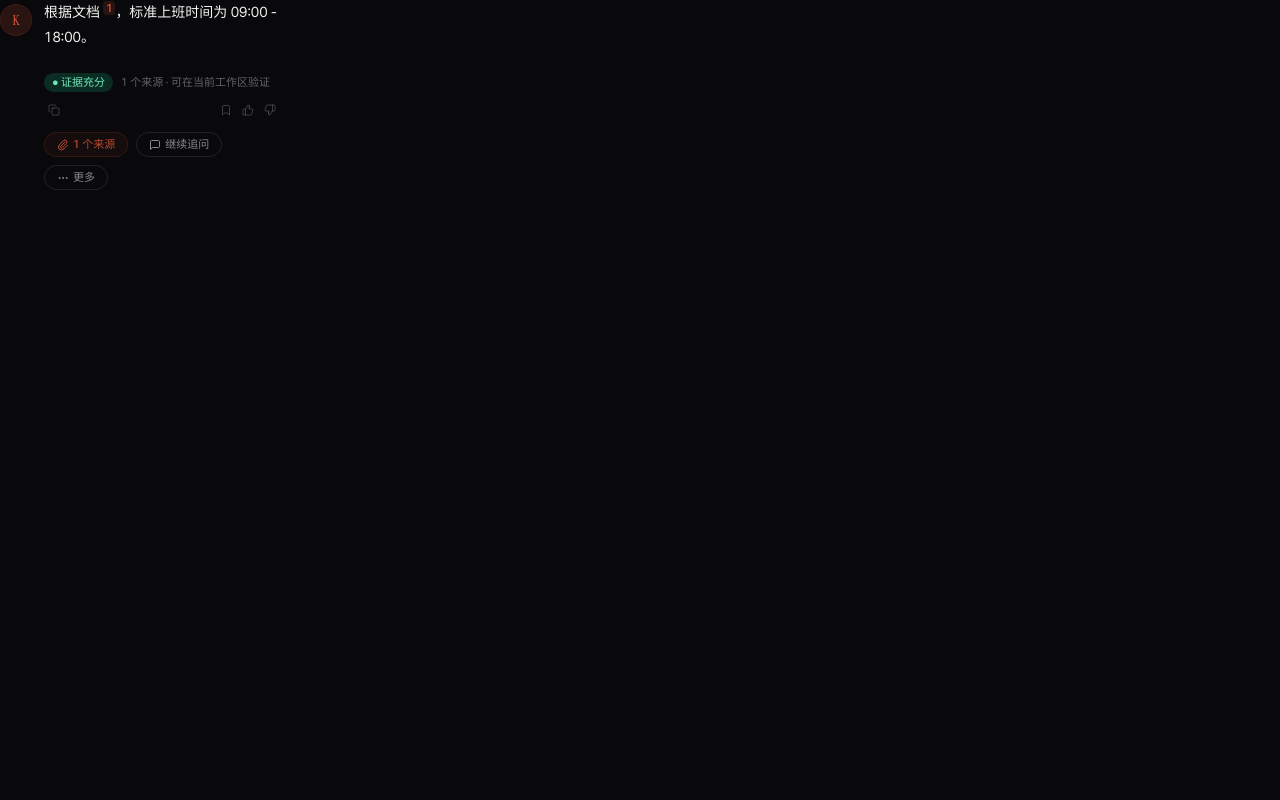
Test: MessageBubble › opens export as a separate dialog from the menu and remains usable in a narrow container
Click the button with aria-label "更多操作" at (76, 178), box [44,165,108,190]
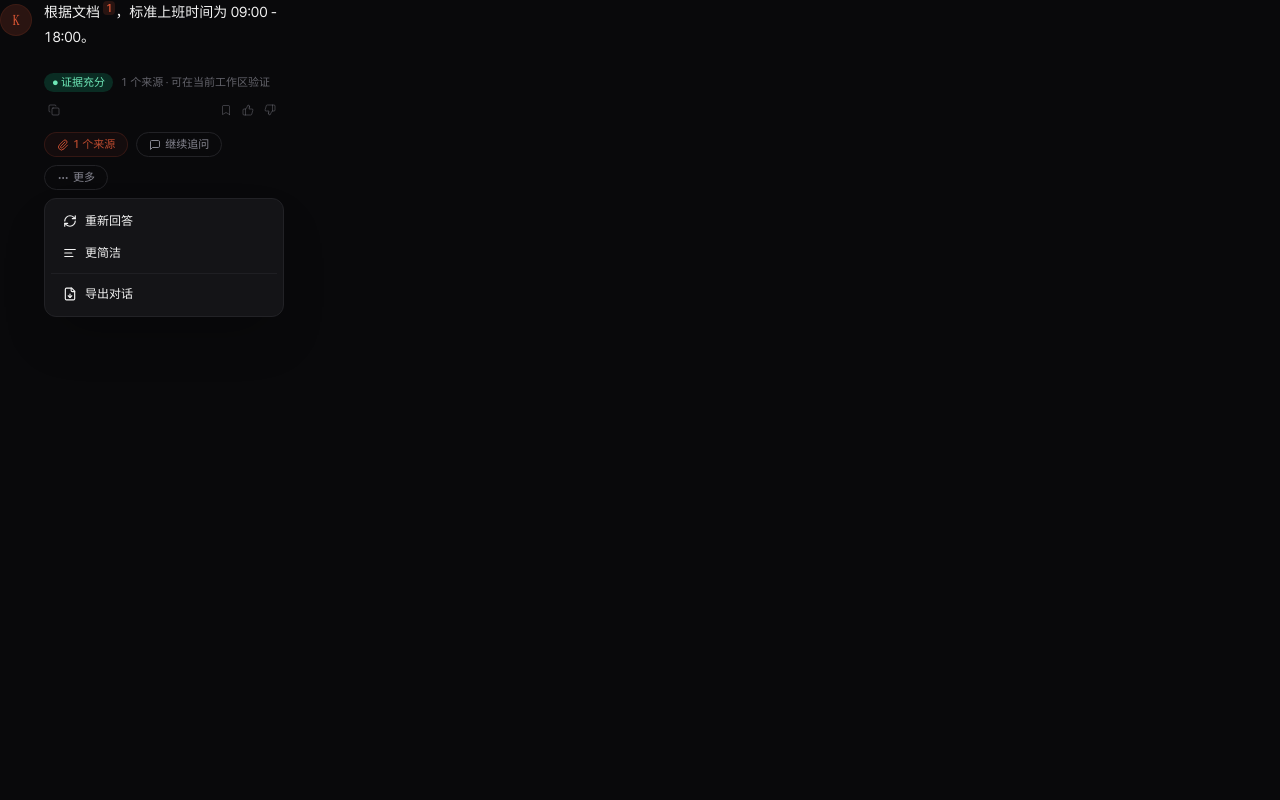
Click the menu item "导出对话" at (98, 294), box [63,286,133,301]
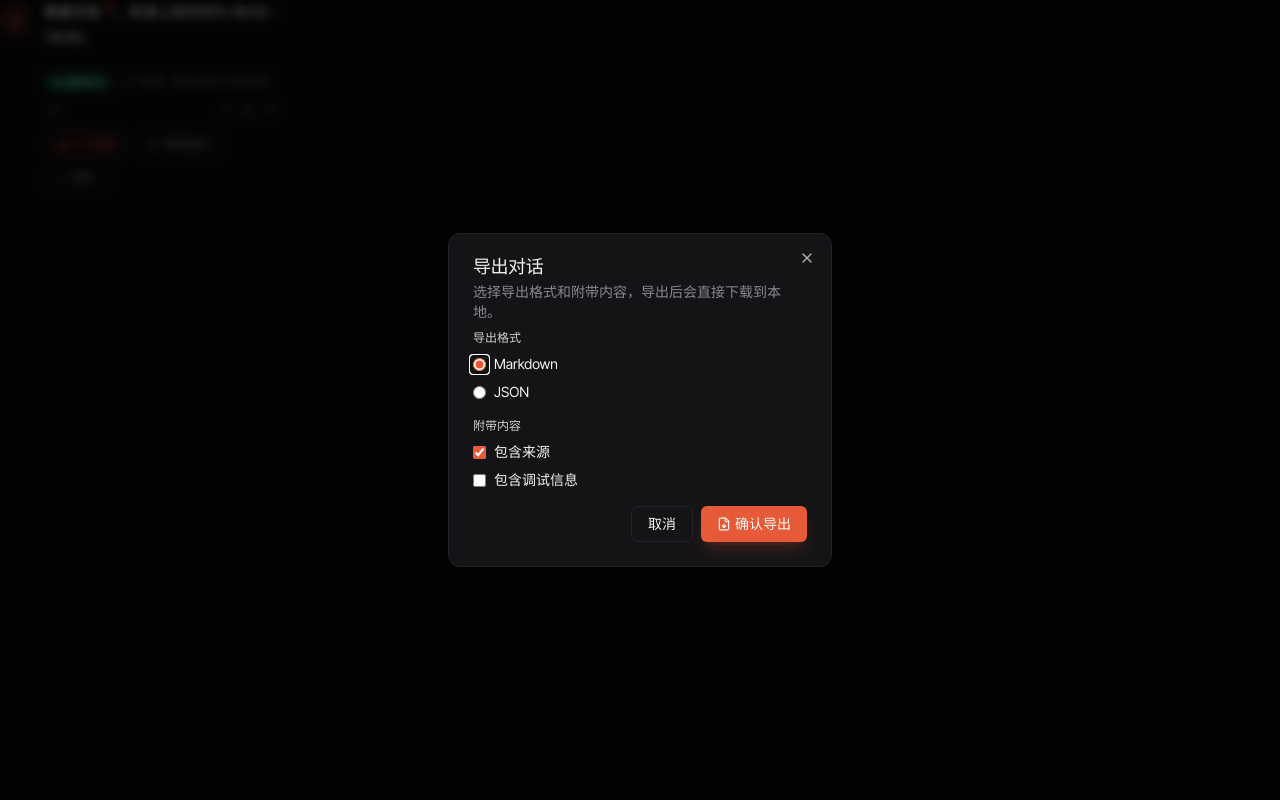
Check: the menu item "重新回答" is gone
Check: the dialog "导出对话" is shown, box [448,233,832,567]
Click the radio button labelled "JSON" at (480, 392), box [473,386,486,398]
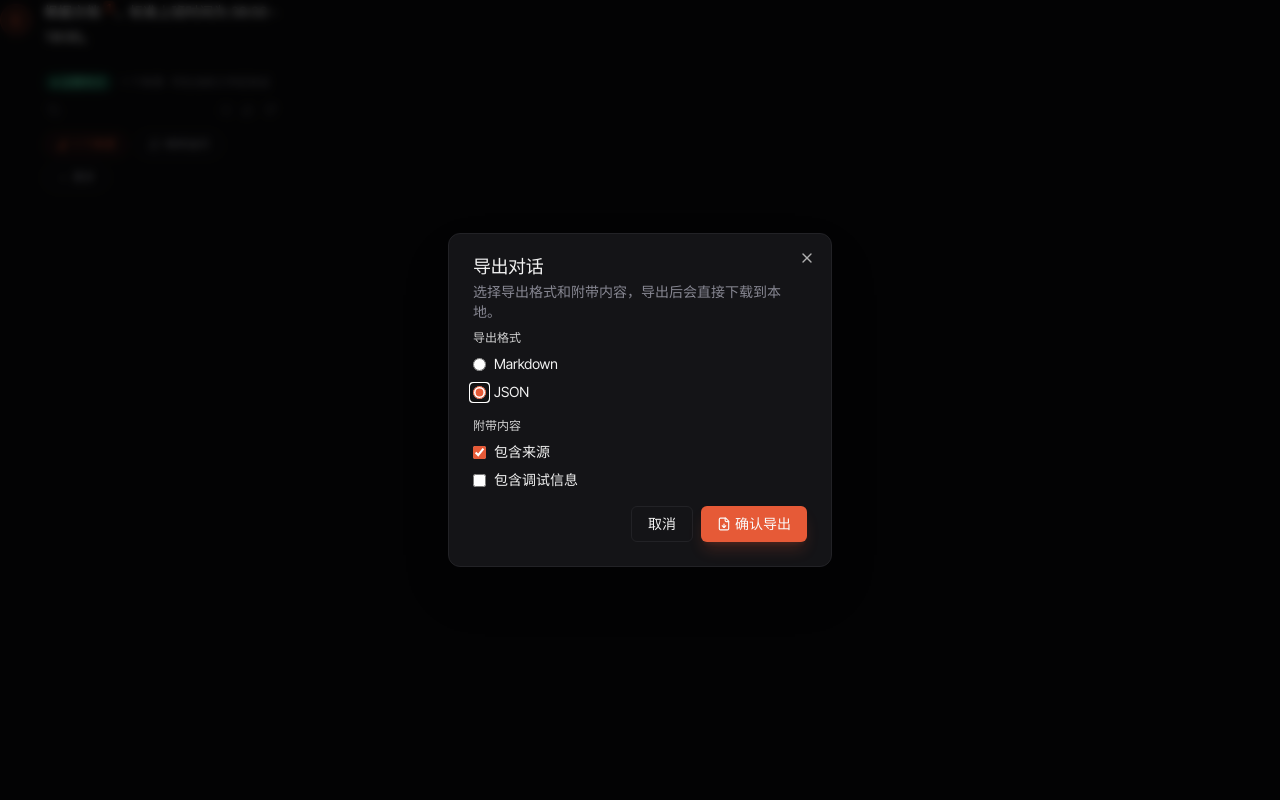
Click the checkbox labelled "包含调试信息" at (480, 480), box [473,474,486,486]
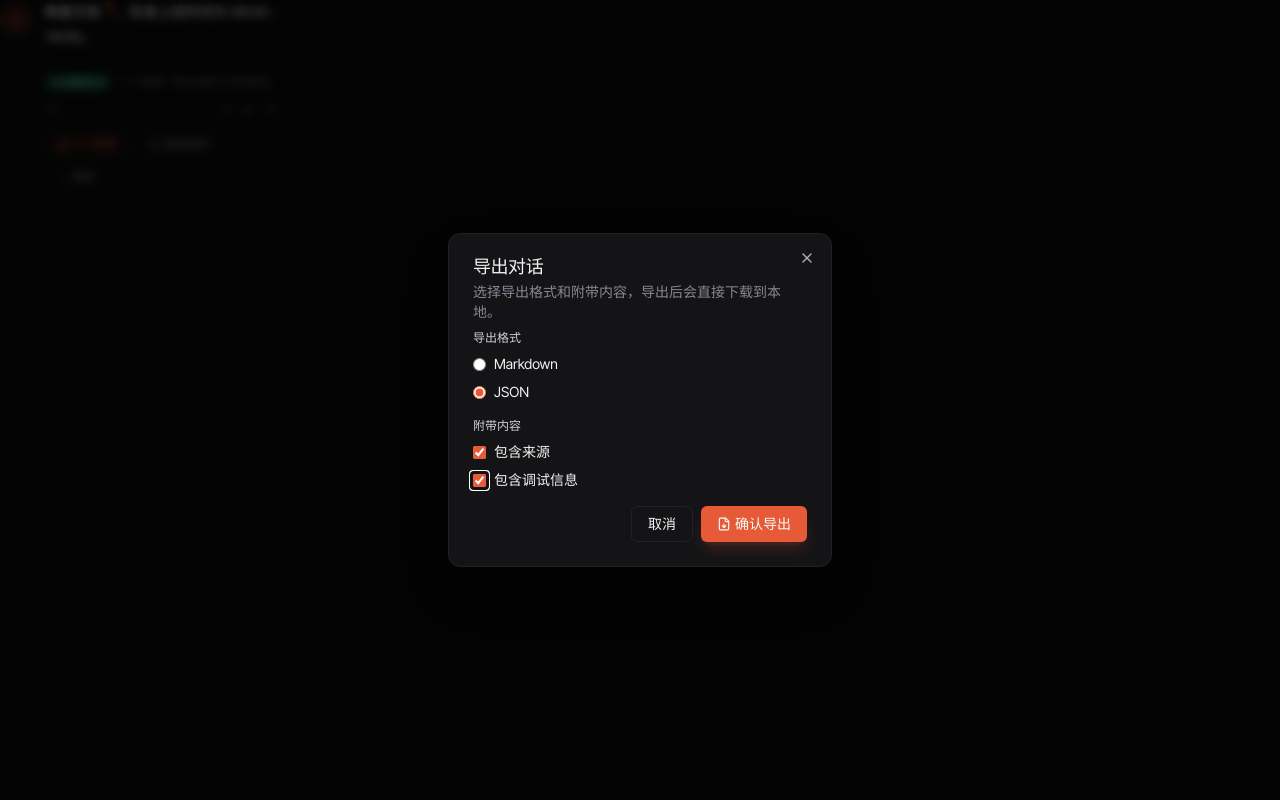
Check: the radio button labelled "JSON" is checked, box [473,386,486,398]
Check: the checkbox labelled "包含调试信息" is checked, box [473,474,486,486]
Check: the button "确认导出" is enabled, box [701,506,807,542]
Press Escape
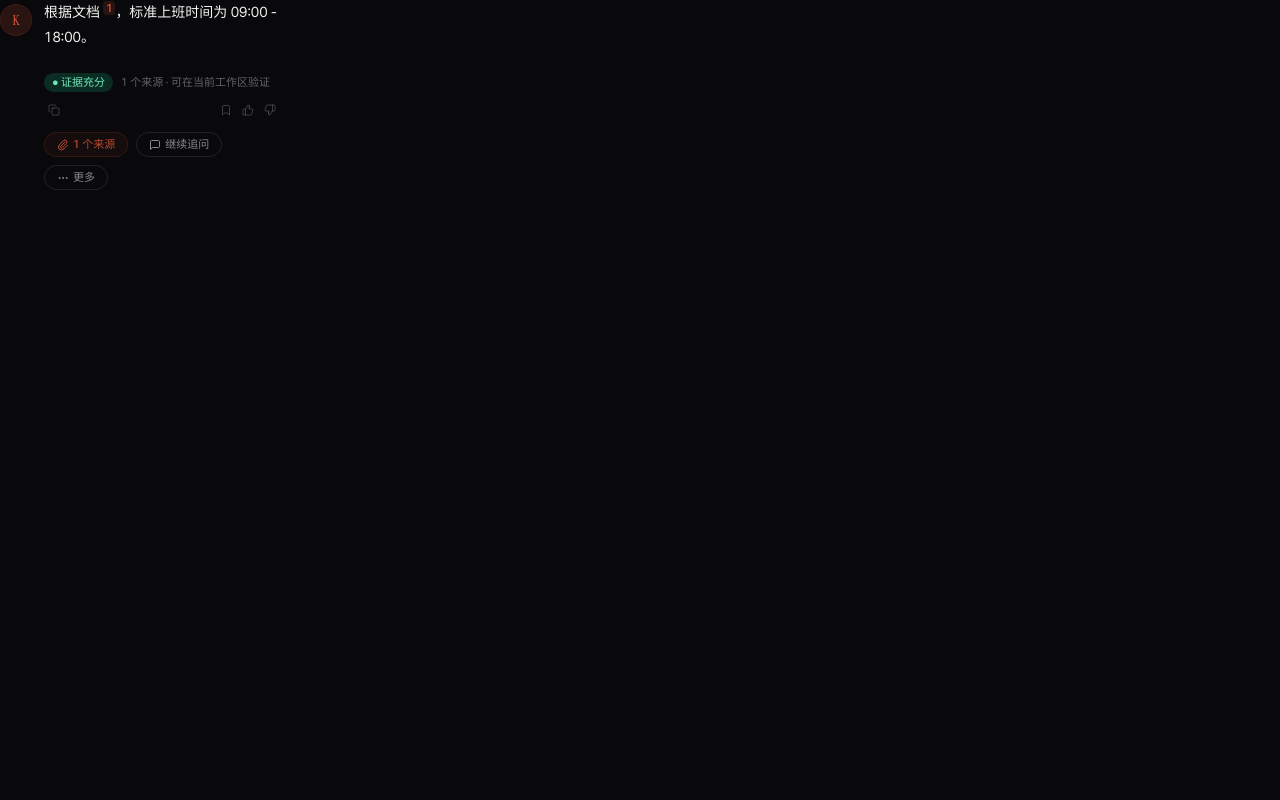
Check: the heading "导出对话" is gone
